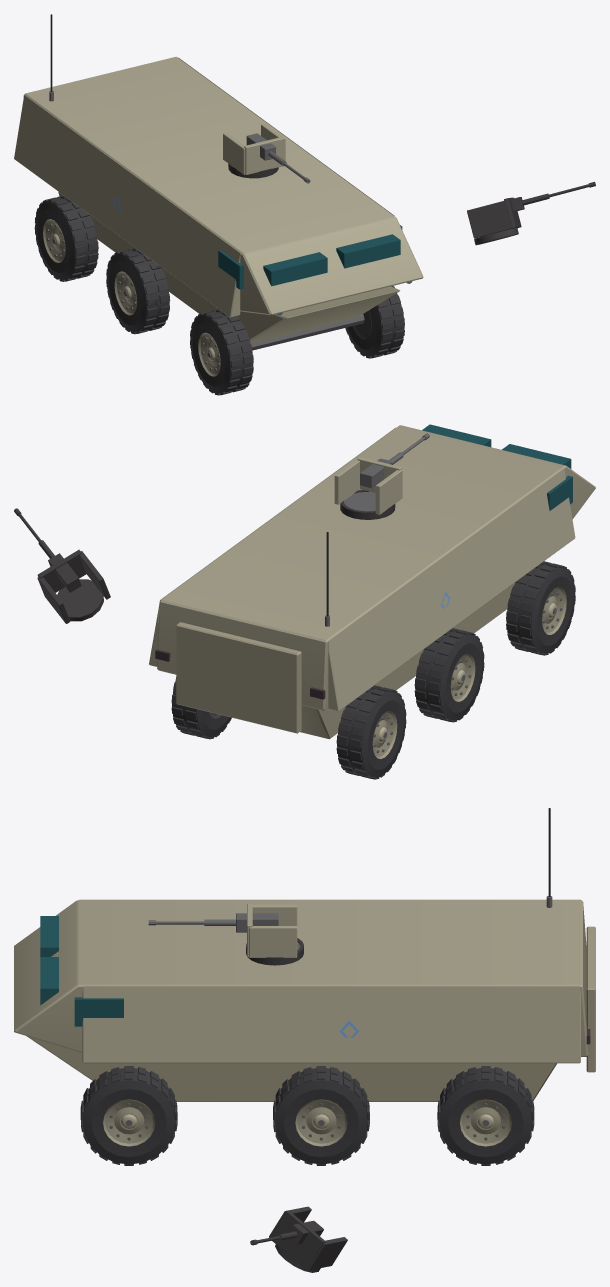
Rendered from apc__anoa.glb.
3 renders of one model, top to bottom at view 1: azimuth 30°, elevation 25°; view 2: azimuth 150°, elevation 25°; view 3: azimuth 270°, elevation 25°, orthographic. The views are drawn at different scales.
Visible parts, largest first — view 1: Hull_Mesh, Wheel_L2_Mesh, Wheel_L0_Mesh, Wheel_L1_Mesh, Wreck, Wheel_R2_Mesh, Turret_Mesh, Gun_Mesh; view 2: Hull_Mesh, Wheel_L2_Mesh, Wheel_L1_Mesh, Wheel_L0_Mesh, Wreck, Turret_Mesh, Wheel_R0_Mesh, Gun_Mesh; view 3: Hull_Mesh, Wheel_R1_Mesh, Wheel_R0_Mesh, Wheel_R2_Mesh, Wreck, Turret_Mesh, Gun_Mesh.
Boxes of the visible parts, <box> form: Hull_Mesh: <box>14,14,423,350</box>; Wheel_L2_Mesh: <box>190,309,253,395</box>; Wheel_L0_Mesh: <box>34,195,98,281</box>; Wheel_L1_Mesh: <box>106,248,170,334</box>; Wreck: <box>89,163,595,394</box>; Wheel_R2_Mesh: <box>345,286,404,358</box>; Turret_Mesh: <box>223,123,285,174</box>; Gun_Mesh: <box>246,133,310,183</box>; Hull_Mesh: <box>149,424,595,739</box>; Wheel_L2_Mesh: <box>506,561,575,655</box>; Wheel_L1_Mesh: <box>414,628,484,722</box>; Wheel_L0_Mesh: <box>336,685,406,779</box>; Wreck: <box>14,489,551,779</box>; Turret_Mesh: <box>334,457,402,514</box>; Wheel_R0_Mesh: <box>171,677,231,739</box>; Gun_Mesh: <box>360,433,429,488</box>; Hull_Mesh: <box>14,808,595,1101</box>; Wheel_R1_Mesh: <box>273,1066,369,1165</box>; Wheel_R0_Mesh: <box>437,1066,534,1165</box>; Wheel_R2_Mesh: <box>80,1066,177,1165</box>; Wreck: <box>124,938,486,1272</box>; Turret_Mesh: <box>247,903,300,957</box>; Gun_Mesh: <box>148,913,278,932</box>.
Size of what is drawn, in the model's own units: 6.3 by 3.25 by 6.26.
